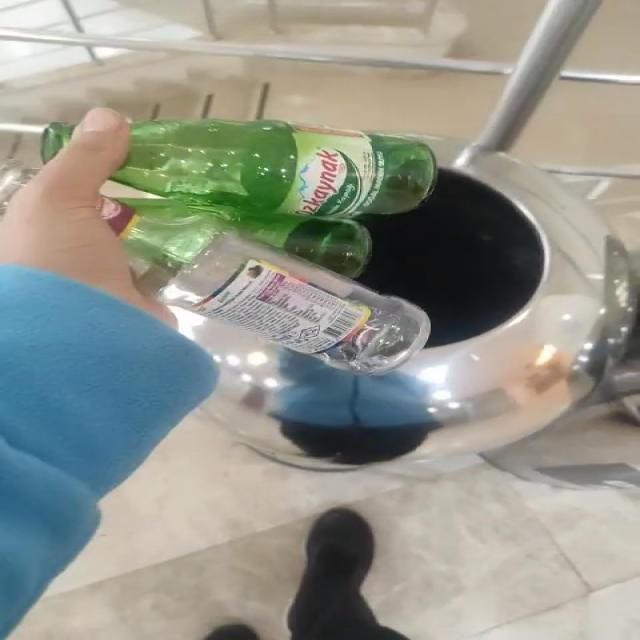Glass: (97, 119, 437, 375)
